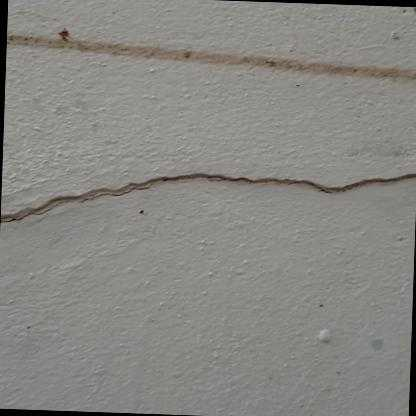crack: (0, 175, 416, 223)
